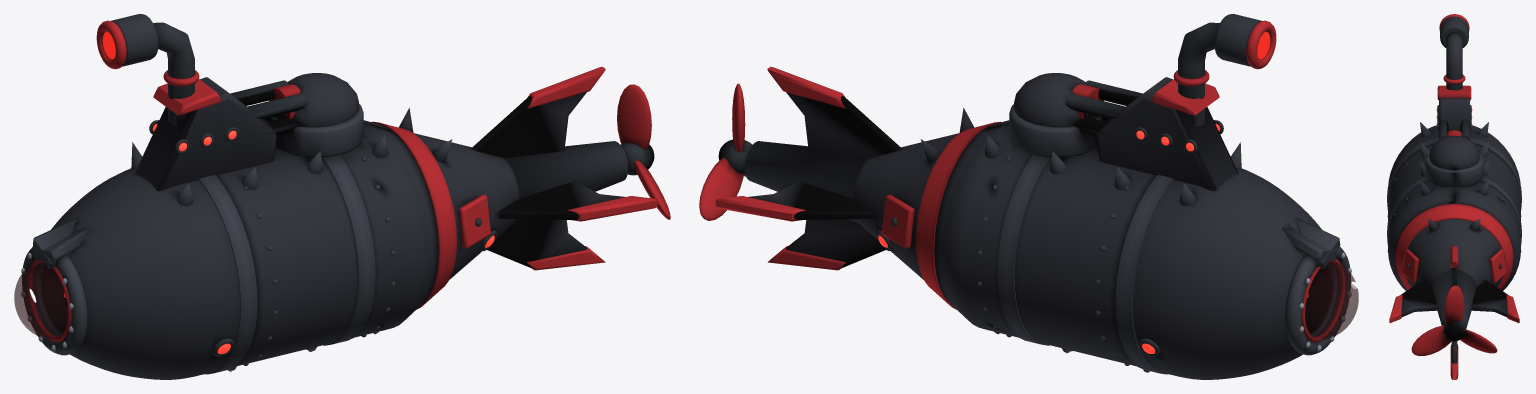
Rendered from enemy_boss.glb.
The picture shows the model from 3 angles, left to right: view 1: azimuth 30°, elevation 25°; view 2: azimuth 150°, elevation 25°; view 3: azimuth 270°, elevation 25°; orthographic projection. The views are drawn at different scales.
Parts seen in each view (by area): view 1: enemy_boss_body, propeller.002, turret_guns_mesh.001; view 2: enemy_boss_body, propeller.002, turret_guns_mesh.001; view 3: enemy_boss_body, propeller.002, turret_guns_mesh.001.
Boxes of the visible parts, <box> form: enemy_boss_body: <box>14,14,657,379</box>; propeller.002: <box>617,84,670,219</box>; turret_guns_mesh.001: <box>224,80,307,144</box>; enemy_boss_body: <box>715,14,1358,379</box>; propeller.002: <box>699,83,752,220</box>; turret_guns_mesh.001: <box>1065,80,1148,144</box>; enemy_boss_body: <box>1387,14,1521,379</box>; propeller.002: <box>1411,285,1497,356</box>; turret_guns_mesh.001: <box>1439,115,1470,139</box>.
Bounding box in the file's own units: 7.77 × 4.32 × 2.35.
